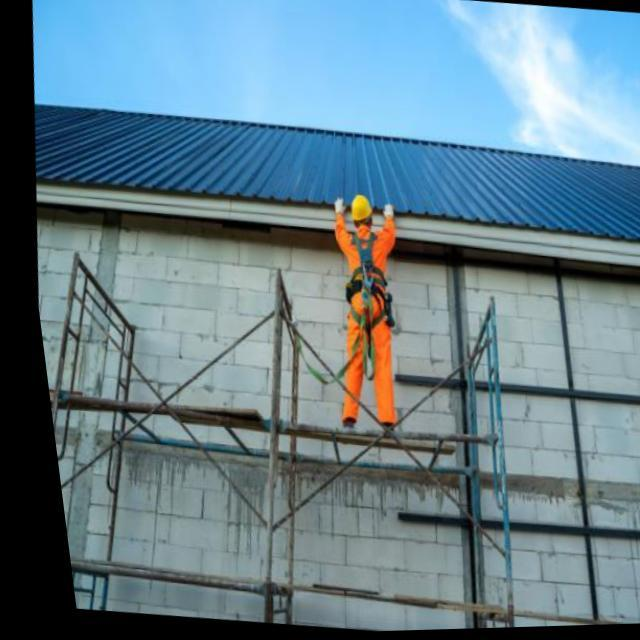belt: (329, 234, 389, 338)
